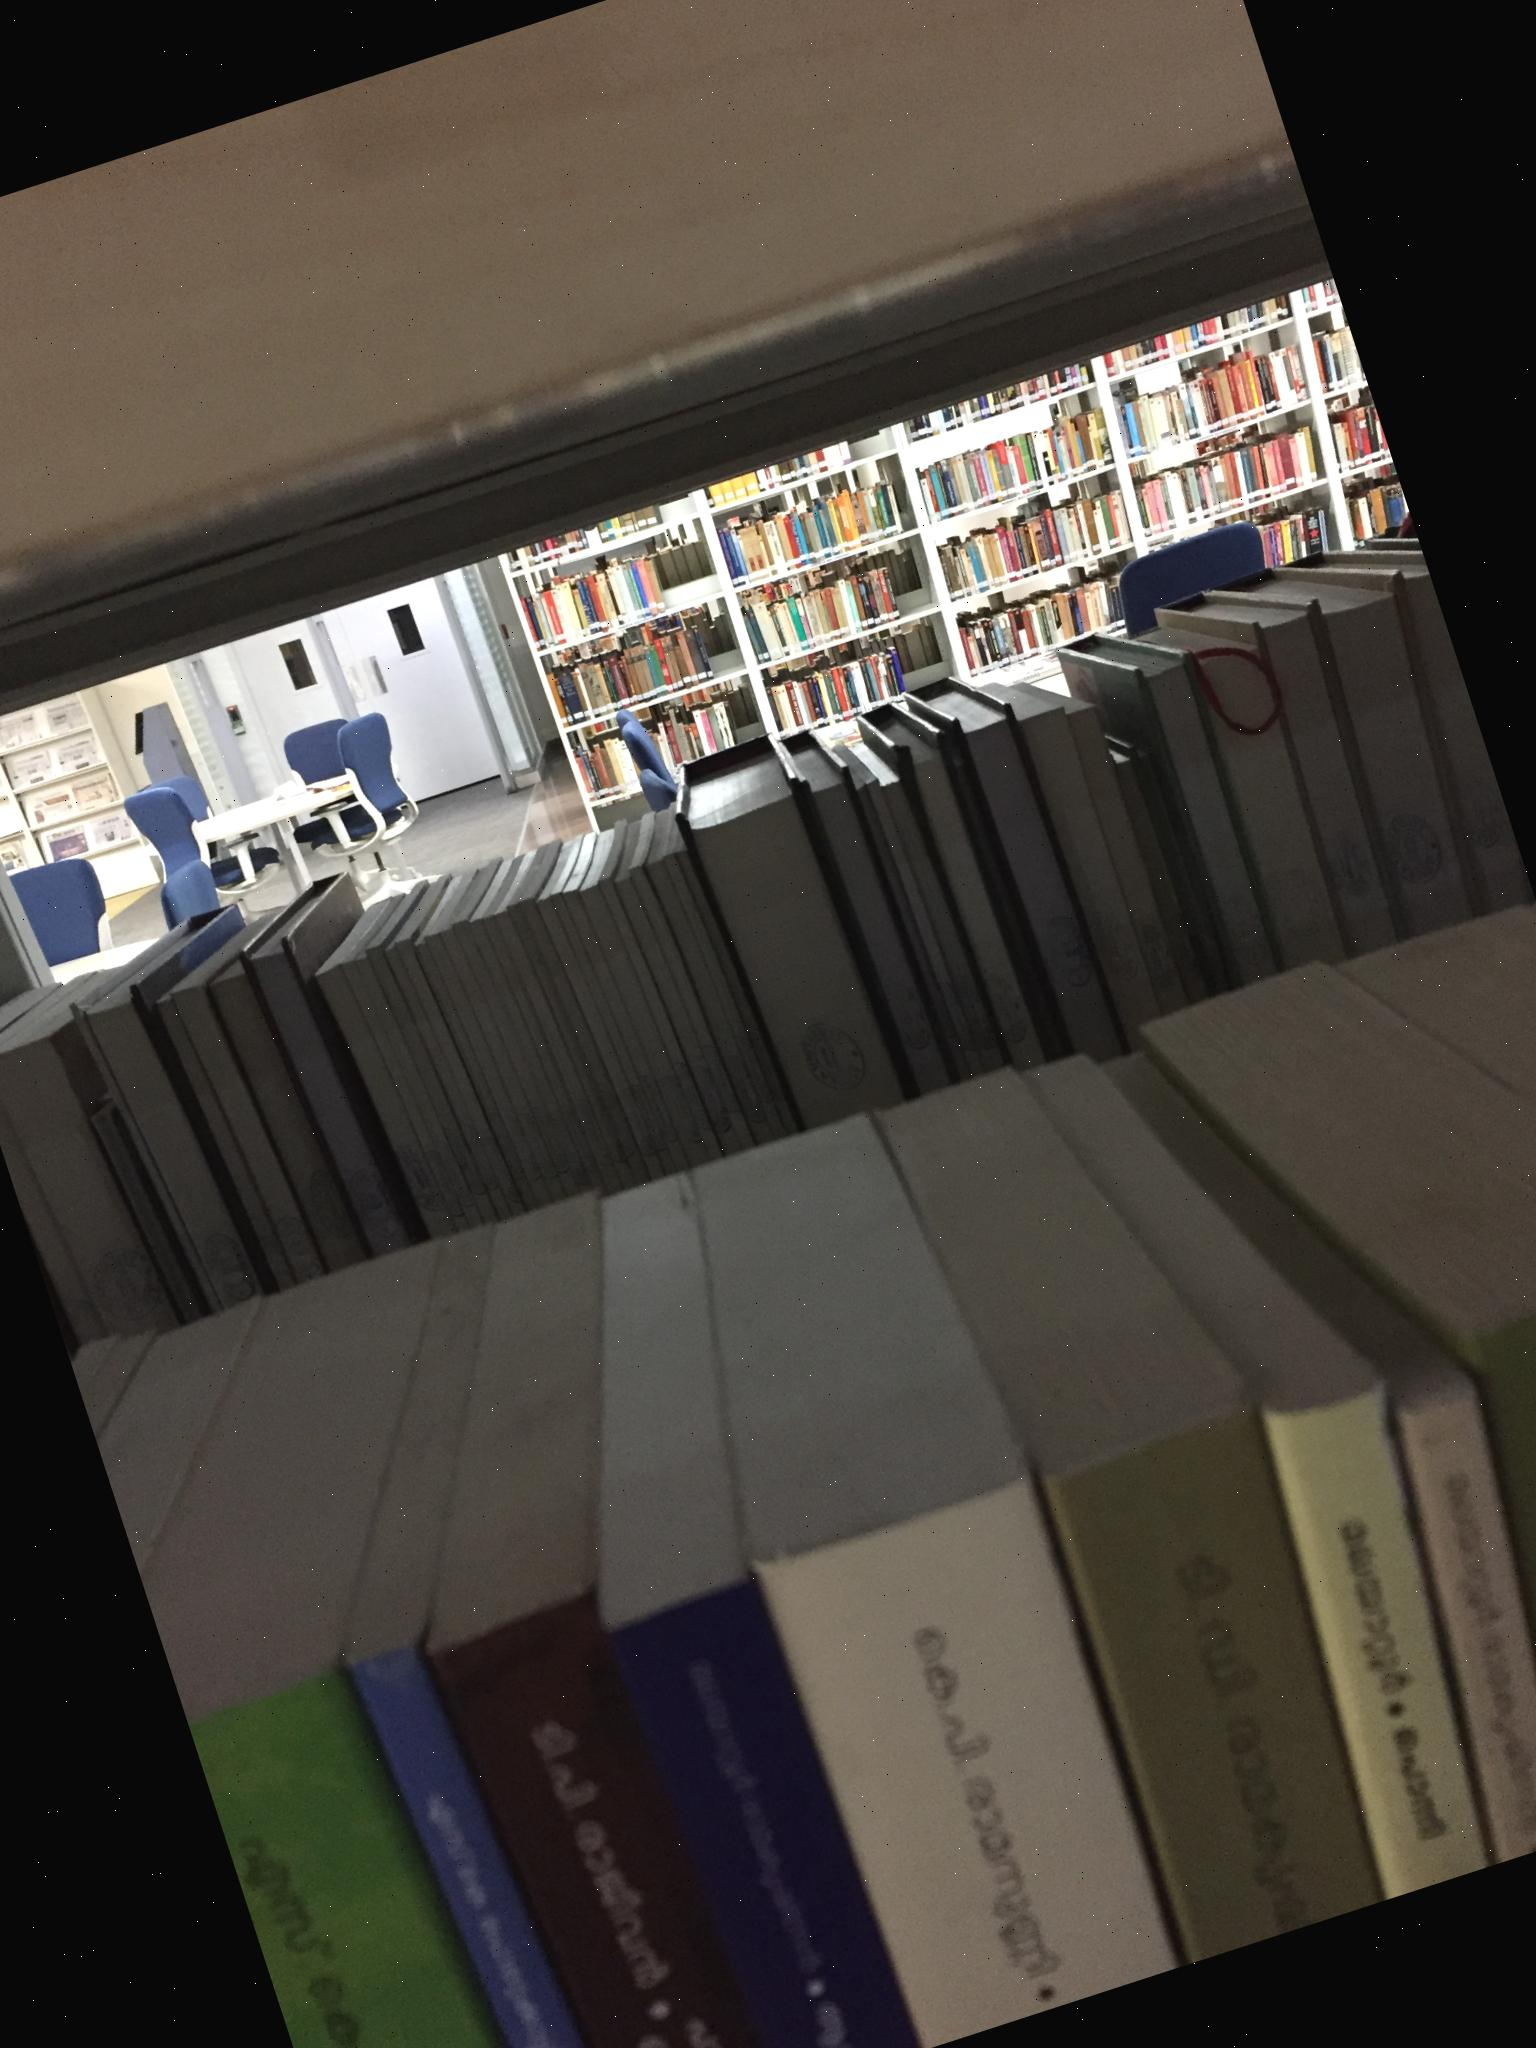chair: (116, 740, 297, 955), (608, 663, 803, 834), (1092, 511, 1289, 647), (261, 703, 405, 874), (315, 703, 442, 855), (6, 848, 119, 972)
